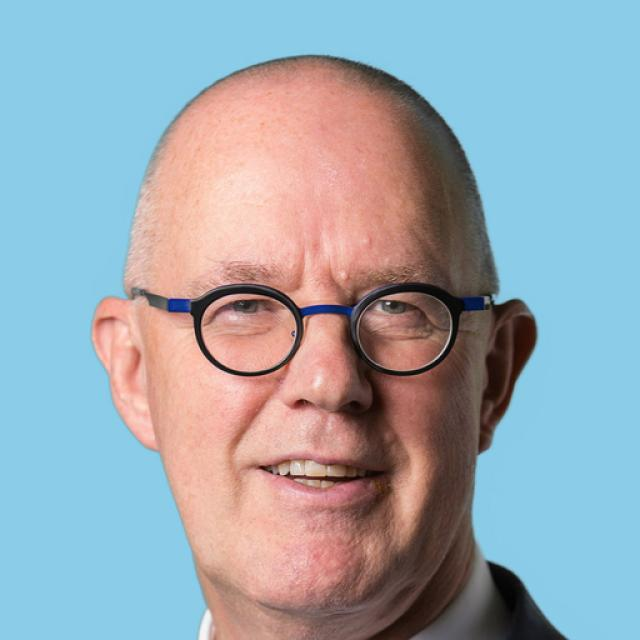Acne: (376, 427, 401, 445), (357, 234, 381, 251), (331, 270, 356, 283)
